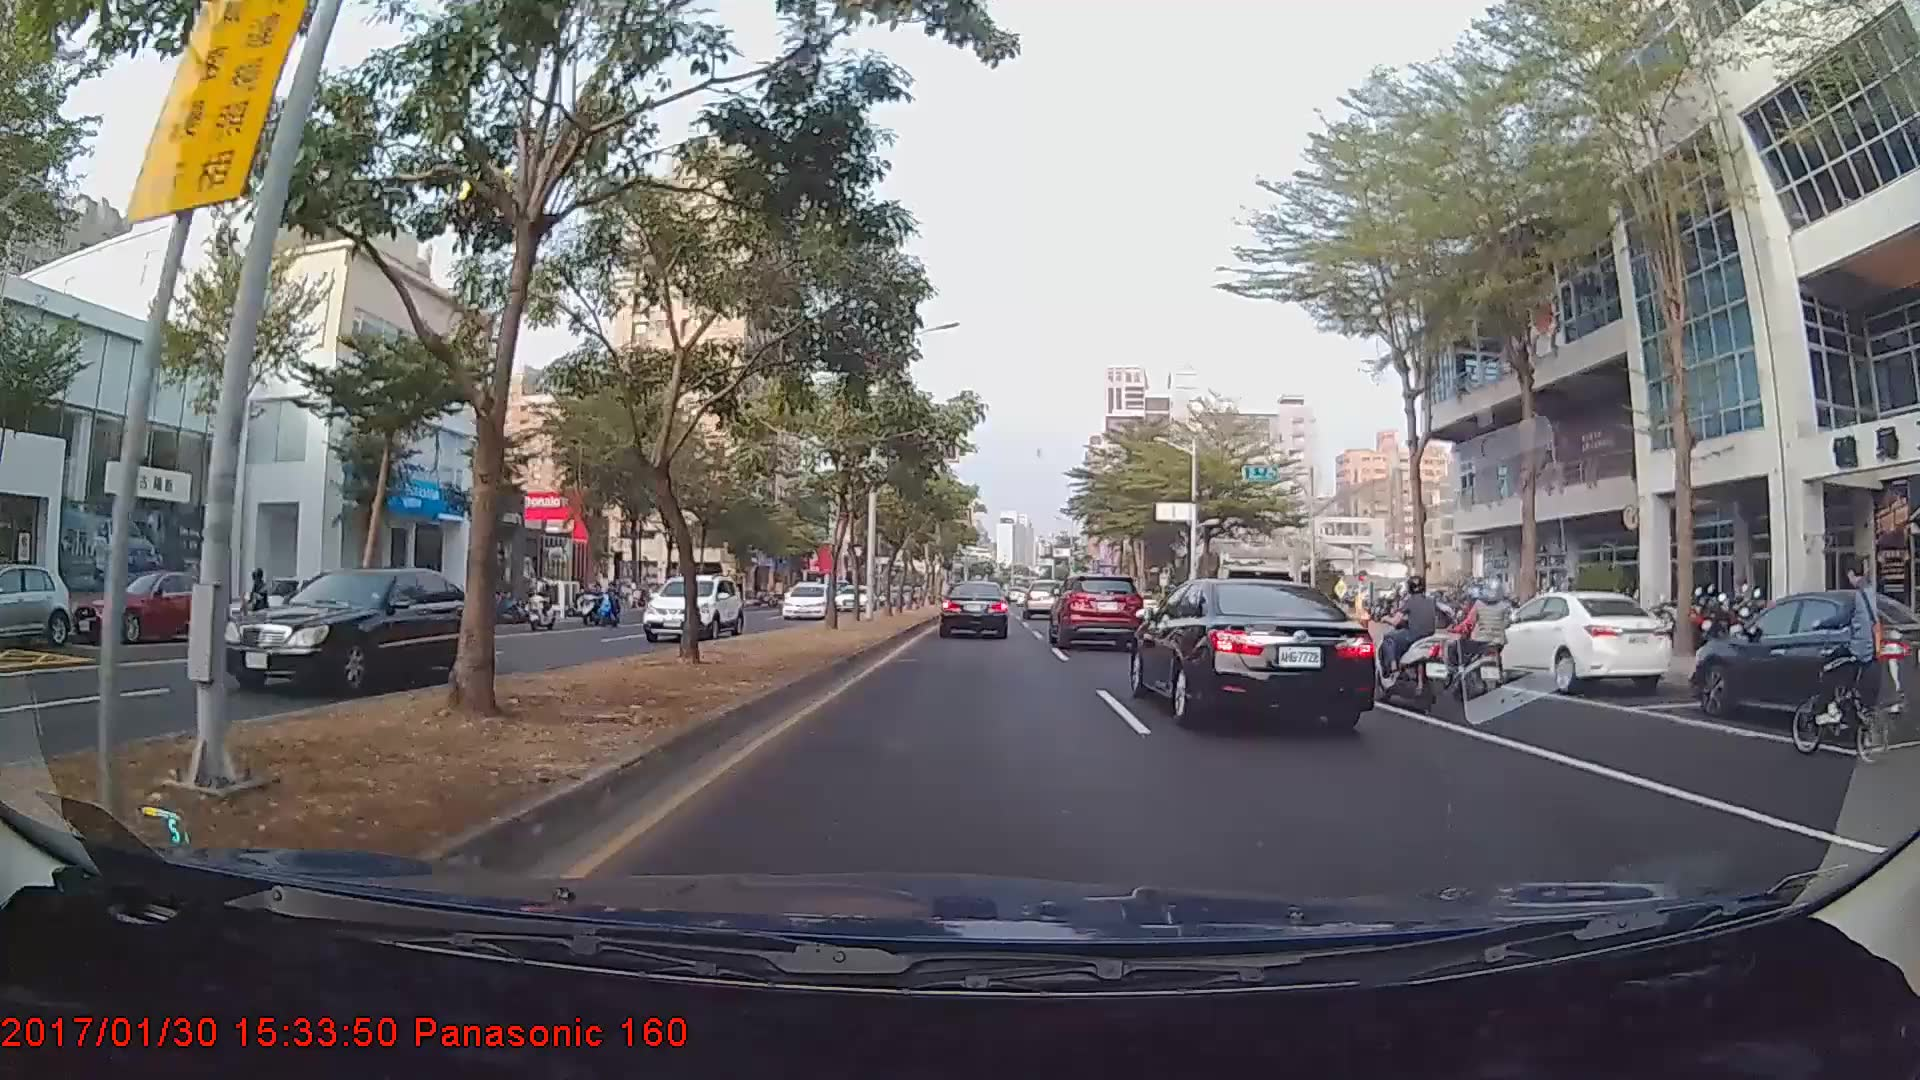rider: (1787, 566, 1898, 765), (1379, 572, 1466, 719), (1446, 578, 1517, 701), (232, 572, 292, 644)
vehicle: (1133, 569, 1372, 733), (218, 566, 498, 695), (1686, 587, 1920, 735), (1499, 585, 1670, 692), (53, 572, 230, 649), (640, 572, 746, 643), (1052, 571, 1142, 650), (0, 560, 77, 646), (939, 579, 1010, 639), (782, 580, 831, 621), (1023, 579, 1056, 617)
